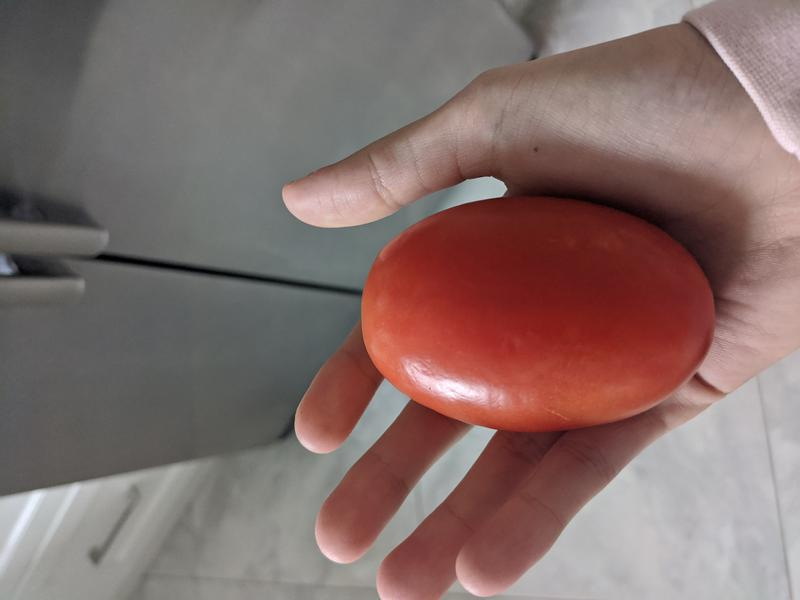tomato: (359, 196, 717, 433)
